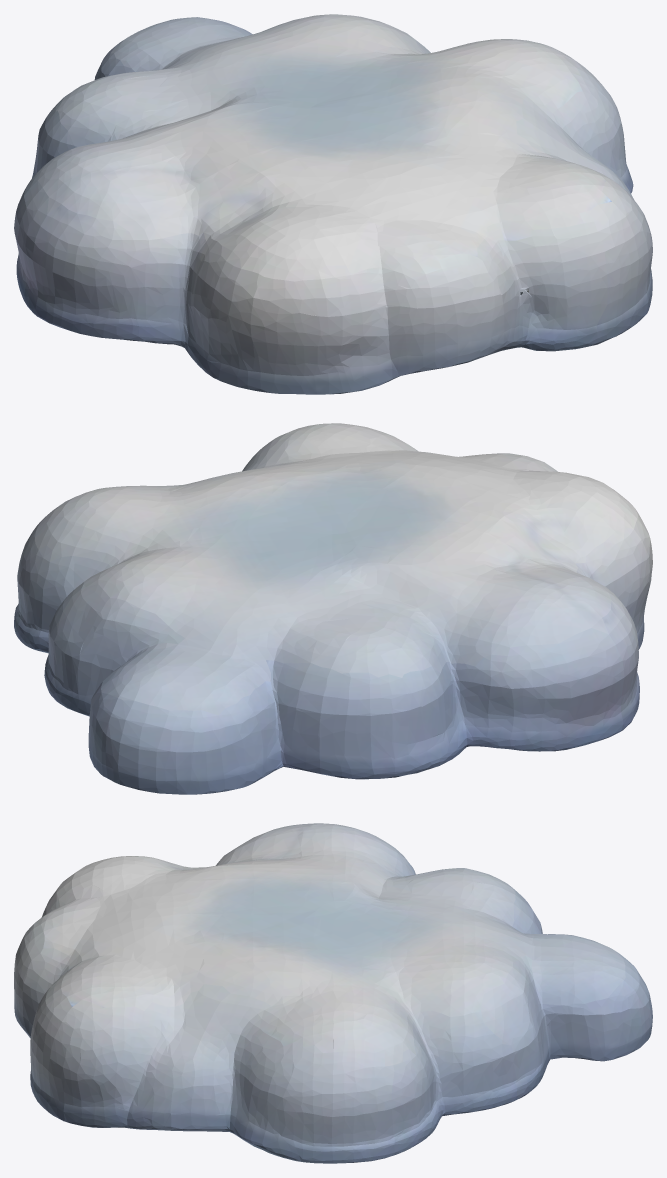
The model's file is cloud1.glb.
3 views of the same model, one above another, from view 1: azimuth 30°, elevation 25°; view 2: azimuth 150°, elevation 25°; view 3: azimuth 270°, elevation 25° (orthographic). The views are drawn at different scales.
Parts seen in each view (by area): view 1: world; view 2: world; view 3: world.
Part boxes in pixels (x1=…): world: x1=14, y1=14, x2=652, y2=394; world: x1=14, y1=423, x2=652, y2=794; world: x1=14, y1=823, x2=652, y2=1163.
Bounding box in the file's own units: 0.935 × 0.233 × 0.9995.
1 material, 1 textured.
